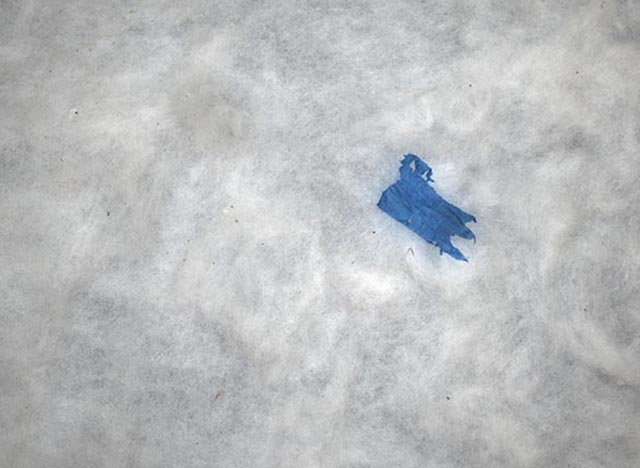plastic film: (377, 153, 477, 265)
